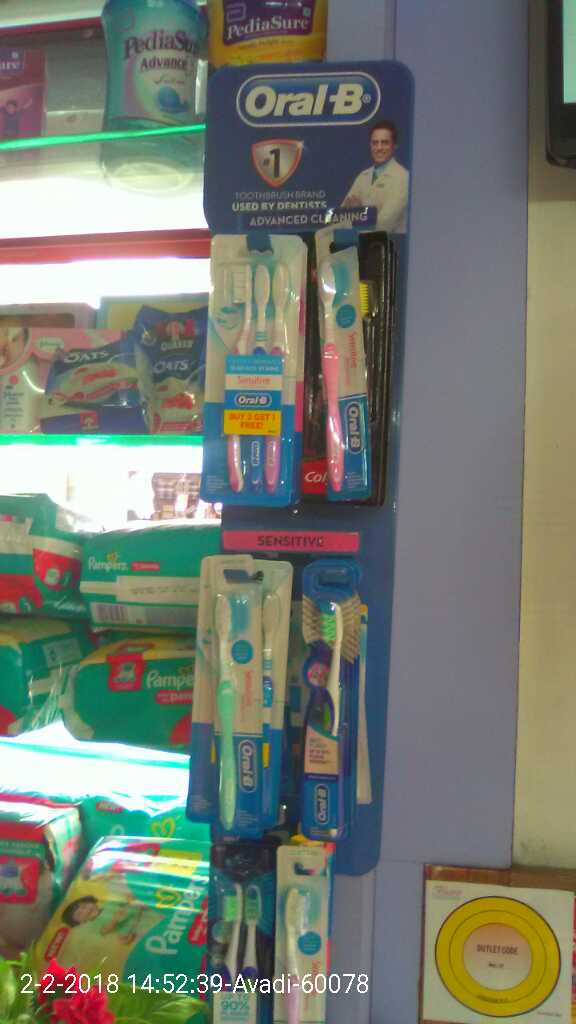pharmacy: (13, 823, 210, 1023), (198, 249, 297, 488), (197, 580, 281, 829), (316, 238, 387, 494), (297, 594, 357, 838)
